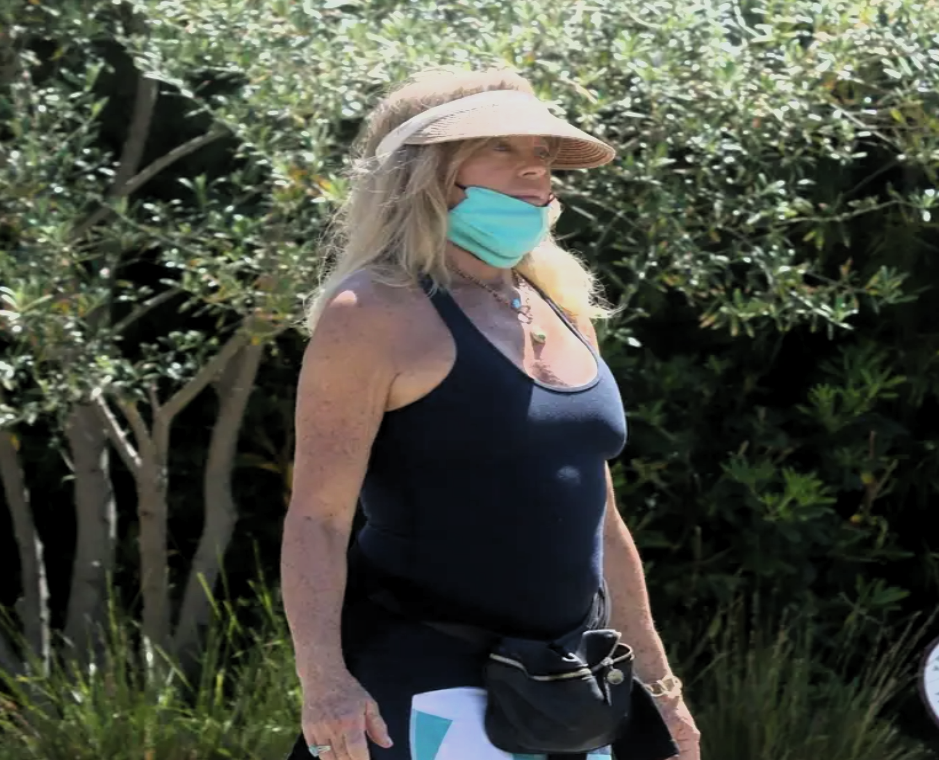mask_weared_incorrect: (361, 72, 602, 275)
